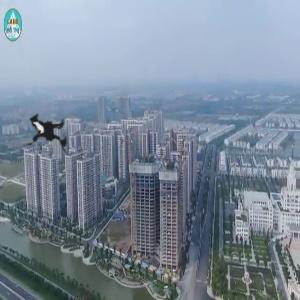drone: (2, 80, 102, 180)
